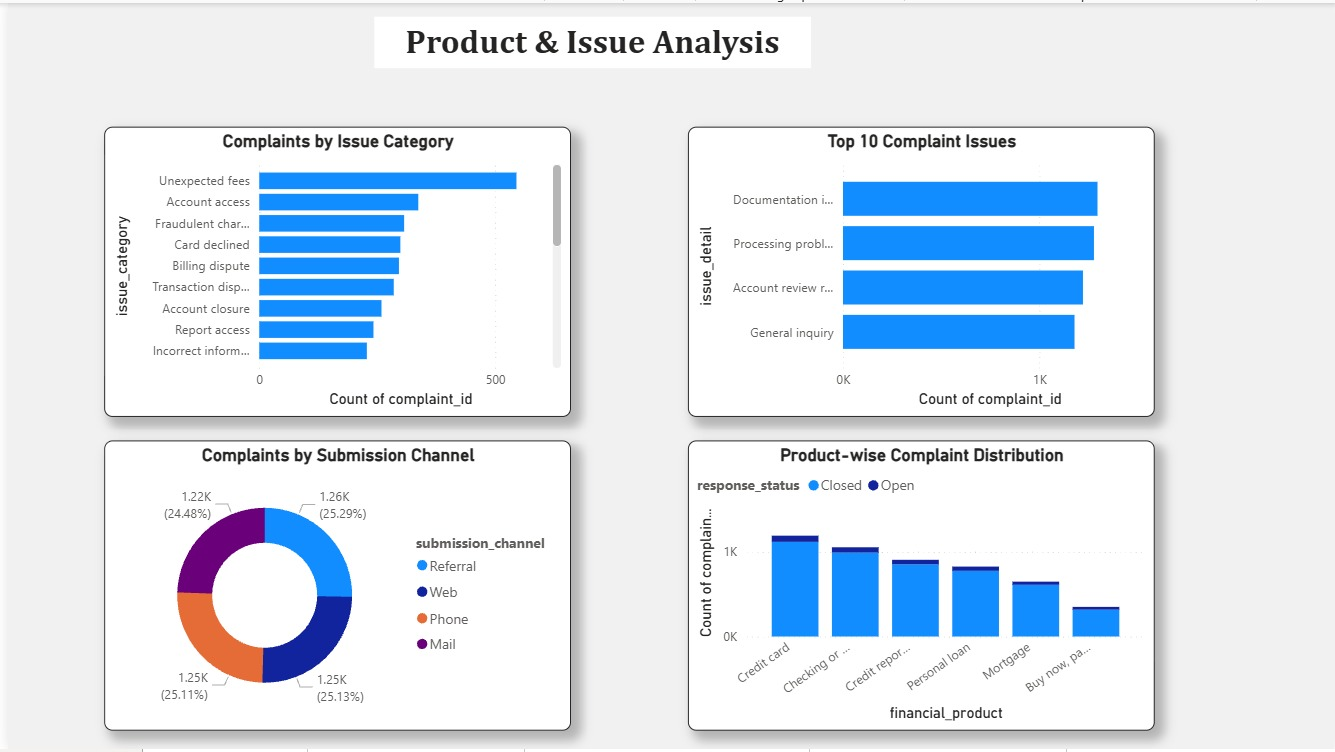

The page's visual inventory and layout, read from the dashboard file:
{"tool":"powerbi","page":{"name":"Product & Issue Analysis","canvas":[1280,720],"ordinal":1},"visuals":[{"type":"textbox","box":[354,13.7,421.3,49.4],"z":0},{"type":"clusteredBarChart","title":"Complaints by Issue Category","fields":{"Category":["Cleaned Data.issue_category"],"Y":["CountNonNull(Cleaned Data.complaint_id)"]},"box":[93.3,119.4,450.1,279.9],"z":1000},{"type":"clusteredBarChart","title":"Top 10 Complaint Issues","fields":{"Category":["Cleaned Data.issue_detail"],"Y":["CountNonNull(Cleaned Data.complaint_id)"]},"box":[655.9,119.4,450.1,279.9],"z":2000},{"type":"donutChart","title":"Complaints by Submission Channel","fields":{"Category":["Cleaned Data.submission_channel"],"Y":["CountNonNull(Cleaned Data.complaint_id)"]},"box":[93.3,422.6,450.1,279.9],"z":3000},{"type":"columnChart","title":"\tProduct-wise Complaint Distribution","fields":{"Category":["Cleaned Data.financial_product"],"Y":["CountNonNull(Cleaned Data.complaint_id)"],"Series":["Cleaned Data.response_status"]},"box":[655.9,422.6,450.1,279.9],"z":4000}]}

Visuals, with their boxes in screenshot pixels (x1, y1, x2, y2), scaled from the page's 1280x720 canvas onto the 1335x752 screenshot:
textbox: x1=369, y1=14, x2=809, y2=66
"Complaints by Issue Category" clusteredBarChart: x1=97, y1=125, x2=567, y2=417
"Top 10 Complaint Issues" clusteredBarChart: x1=684, y1=125, x2=1154, y2=417
"Complaints by Submission Channel" donutChart: x1=97, y1=441, x2=567, y2=734
"	Product-wise Complaint Distribution" columnChart: x1=684, y1=441, x2=1154, y2=734
